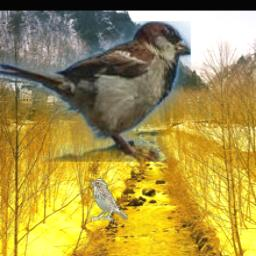Sparrow: (0, 21, 192, 162), (91, 179, 129, 222)
